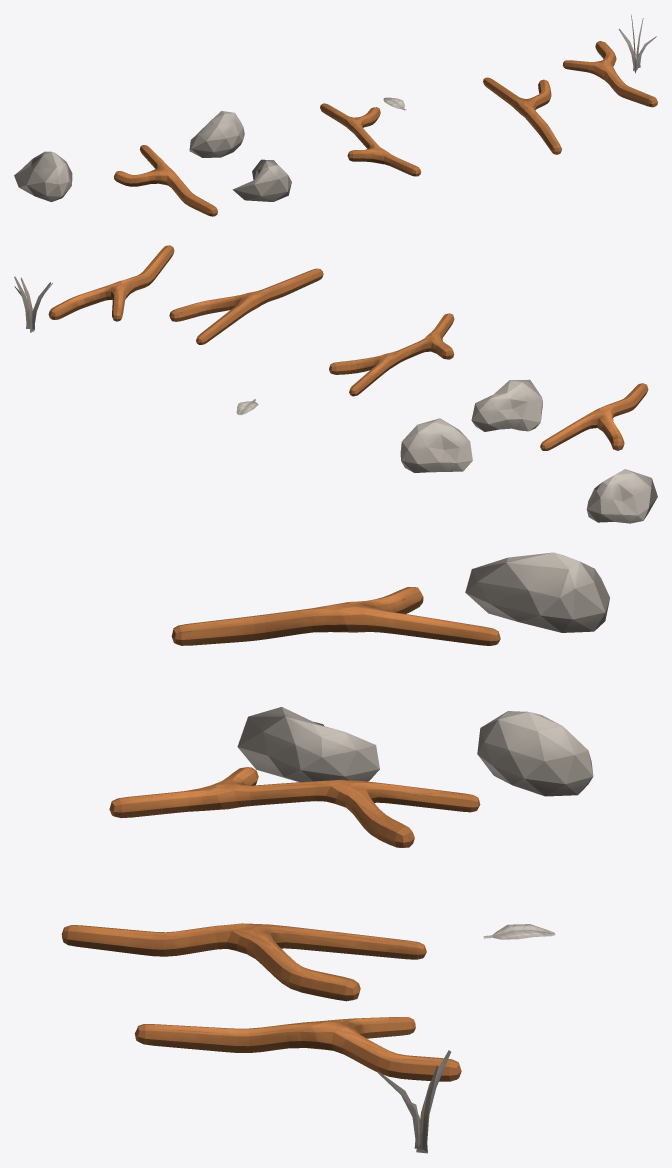
File: Props.fbx
3 views of the same model, one above another, from view 1: azimuth 30°, elevation 25°; view 2: azimuth 150°, elevation 25°; view 3: azimuth 270°, elevation 25° (orthographic). The views are drawn at different scales.
Parts seen in each view (by area): view 1: Icosphere.003, Plane.012, Plane.013, Icosphere.001, Plane.011, Plane.010, Icosphere.002, Plane.015; view 2: Icosphere.001, Plane.011, Icosphere.003, Icosphere.002, Plane.012, Plane.010, Plane.013, Plane.015; view 3: Plane.011, Plane.012, Plane.010, Plane.013, Icosphere.003, Icosphere.002, Icosphere.001, Plane.015.
Part boxes in pixels (x1=…): Icosphere.003: x1=14, y1=151, x2=72, y2=201; Plane.012: x1=320, y1=103, x2=420, y2=176; Plane.013: x1=114, y1=145, x2=217, y2=216; Icosphere.001: x1=189, y1=111, x2=244, y2=157; Plane.011: x1=483, y1=77, x2=561, y2=154; Plane.010: x1=562, y1=41, x2=657, y2=107; Icosphere.002: x1=232, y1=159, x2=291, y2=201; Plane.015: x1=618, y1=14, x2=656, y2=73; Icosphere.001: x1=400, y1=418, x2=472, y2=472; Plane.011: x1=169, y1=268, x2=323, y2=344; Icosphere.003: x1=586, y1=469, x2=657, y2=523; Icosphere.002: x1=471, y1=379, x2=542, y2=431; Plane.012: x1=329, y1=313, x2=454, y2=396; Plane.010: x1=48, y1=245, x2=174, y2=321; Plane.013: x1=540, y1=383, x2=648, y2=450; Plane.015: x1=14, y1=276, x2=52, y2=332; Plane.011: x1=61, y1=923, x2=426, y2=1001; Plane.012: x1=109, y1=767, x2=480, y2=847; Plane.010: x1=134, y1=1017, x2=461, y2=1081; Plane.013: x1=171, y1=587, x2=500, y2=645; Icosphere.003: x1=465, y1=552, x2=609, y2=632; Icosphere.002: x1=237, y1=707, x2=379, y2=782; Icosphere.001: x1=477, y1=711, x2=593, y2=796; Plane.015: x1=377, y1=1050, x2=450, y2=1153.
Bounding box in the file's own units: 2666 × 250 × 1057.
